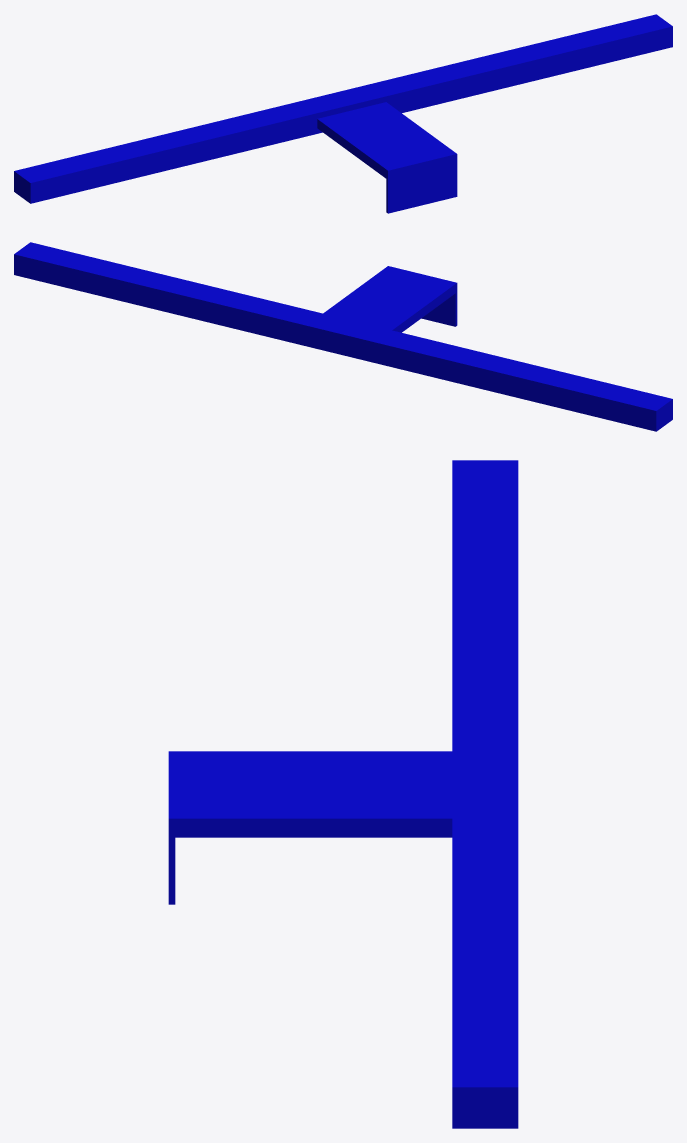
Rendered from Bathroom_Mirror_Lamp.fbx.
3 renders of one model, top to bottom at view 1: azimuth 30°, elevation 25°; view 2: azimuth 150°, elevation 25°; view 3: azimuth 270°, elevation 25°, orthographic. The views are drawn at different scales.
Parts seen in each view (by area): view 1: Bathroom_Mirror_Lamp; view 2: Bathroom_Mirror_Lamp; view 3: Bathroom_Mirror_Lamp.
Part boxes in pixels (x1=…): Bathroom_Mirror_Lamp: x1=14, y1=14, x2=672, y2=213; Bathroom_Mirror_Lamp: x1=14, y1=242, x2=672, y2=431; Bathroom_Mirror_Lamp: x1=168, y1=460, x2=518, y2=1128.
Size of the model in its own units: 0.3161 by 0.0228 by 0.0745.
